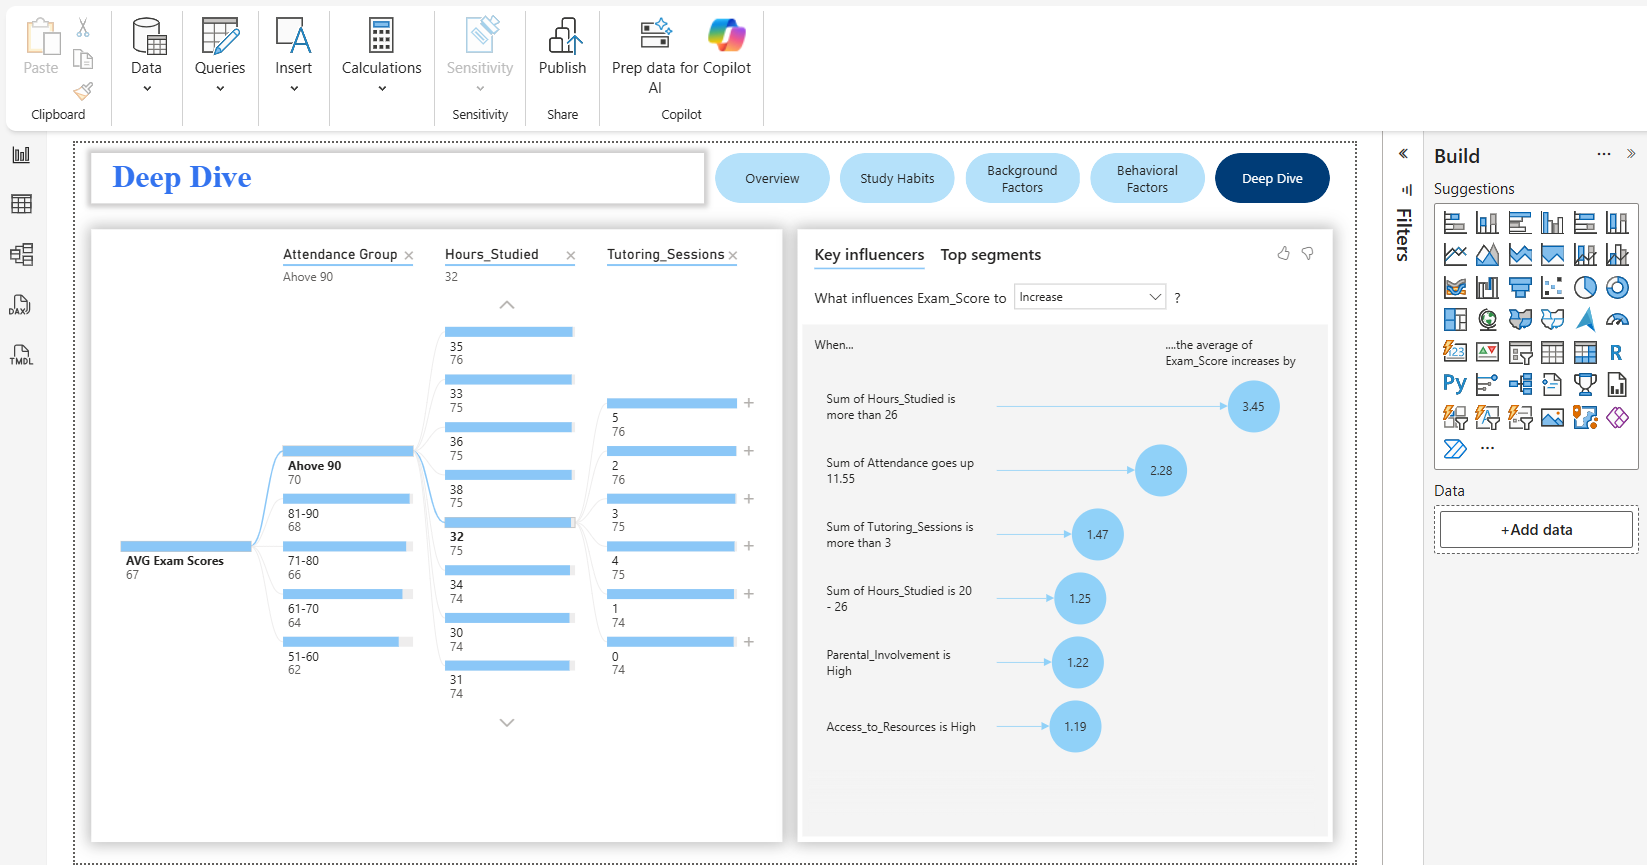

The dashboard page shown, as its layout file describes it:
{"tool":"powerbi","page":{"name":"Deep Dive","canvas":[1280,720],"ordinal":4},"visuals":[{"type":"pageNavigator","box":[640,10,617.1,50],"z":0},{"type":"decompositionTreeVisual","fields":{"Analyze":["DataSet.AVG Exam Scores"],"ExplainBy":["DataSet.Motivation_Level Hierarchy.Attendence Group","DataSet.Motivation_Level Hierarchy.Hours_Studied","DataSet.Motivation_Level Hierarchy.Tutoring_Sessions","DataSet.Motivation_Level Hierarchy.Learning_Disabilities","DataSet.Motivation_Level Hierarchy.Attendance","DataSet.Motivation_Level Hierarchy.Motivation_Level","DataSet.Motivation_Level Hierarchy.Peer_Influence","DataSet.Motivation_Level Hierarchy.Extracurricular_Activities"]},"box":[16.2,86.2,691.2,612.5],"z":1000},{"type":"textbox","box":[15.7,10,612.9,50],"z":2000},{"type":"keyDriversVisual","fields":{"Target":["DataSet.Exam_Score"],"ExplainBy":["Sum(DataSet.Hours_Studied)","Sum(DataSet.Attendance)","DataSet.Parental_Involvement","DataSet.Access_to_Resources","DataSet.Motivation_Level","DataSet.Family_Income","DataSet.Teacher_Quality","Sum(DataSet.Sleep_Hours)","Sum(DataSet.Tutoring_Sessions)","DataSet.Peer_Influence"]},"box":[722.5,86.2,535,612.5],"z":2001}]}

Visuals, with their boxes on the page's 1280x720 design canvas (x1, y1, x2, y2). These are canvas units, not pixel positions in the 1647x865 screenshot, which may show the page scaled, cropped or inside an application window:
pageNavigator: (left=640, top=10, right=1257, bottom=60)
decompositionTreeVisual - DataSet.AVG Exam Scores x DataSet.Motivation_Level Hierarchy.Attendence Group: (left=16, top=86, right=707, bottom=699)
textbox: (left=16, top=10, right=629, bottom=60)
keyDriversVisual - DataSet.Exam_Score x Sum(DataSet.Hours_Studied): (left=722, top=86, right=1258, bottom=699)
